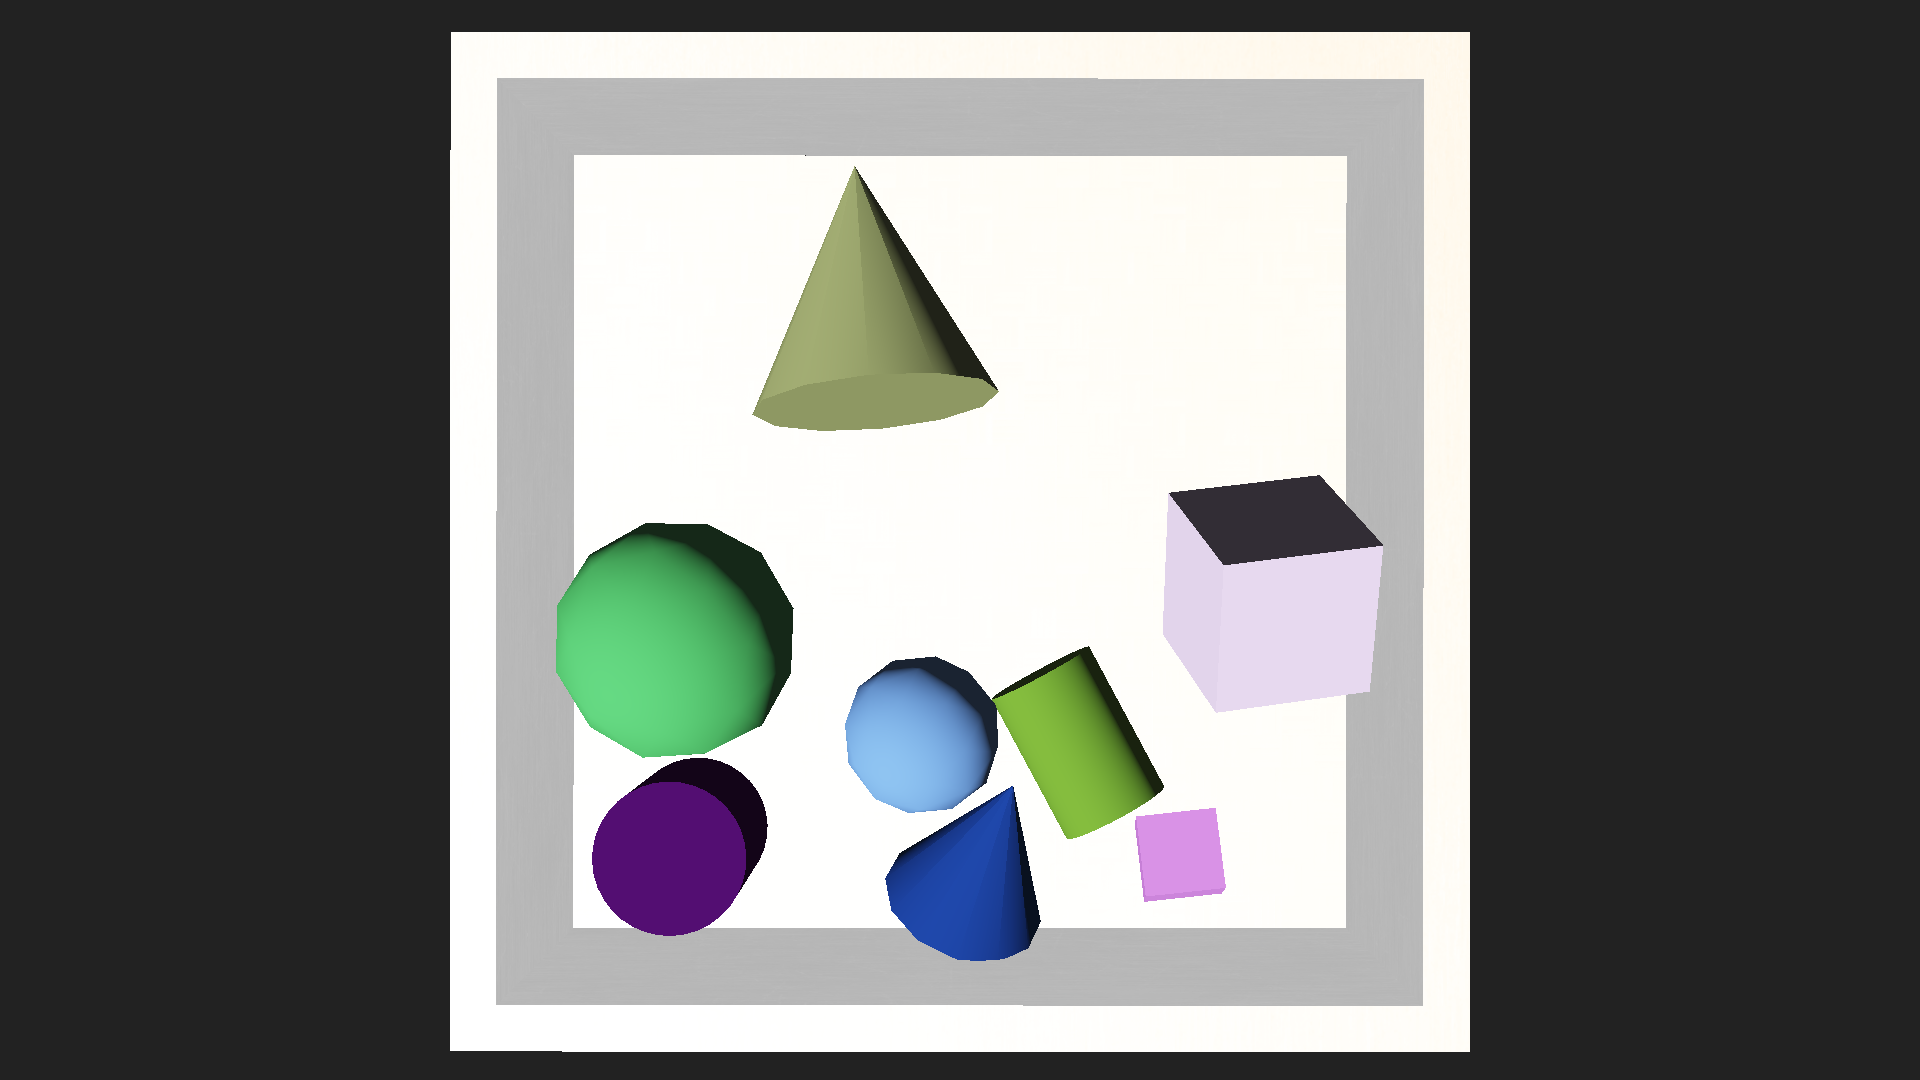3: (1158, 469, 1390, 719), (1129, 796, 1229, 913)
cone: (990, 644, 1168, 844), (591, 757, 767, 935)
cylinder: (713, 105, 1002, 440), (861, 717, 1117, 985)
sphere: (553, 517, 796, 761), (841, 654, 1001, 814)
